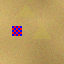structure: (32, 23, 51, 38), (15, 4, 36, 16)
